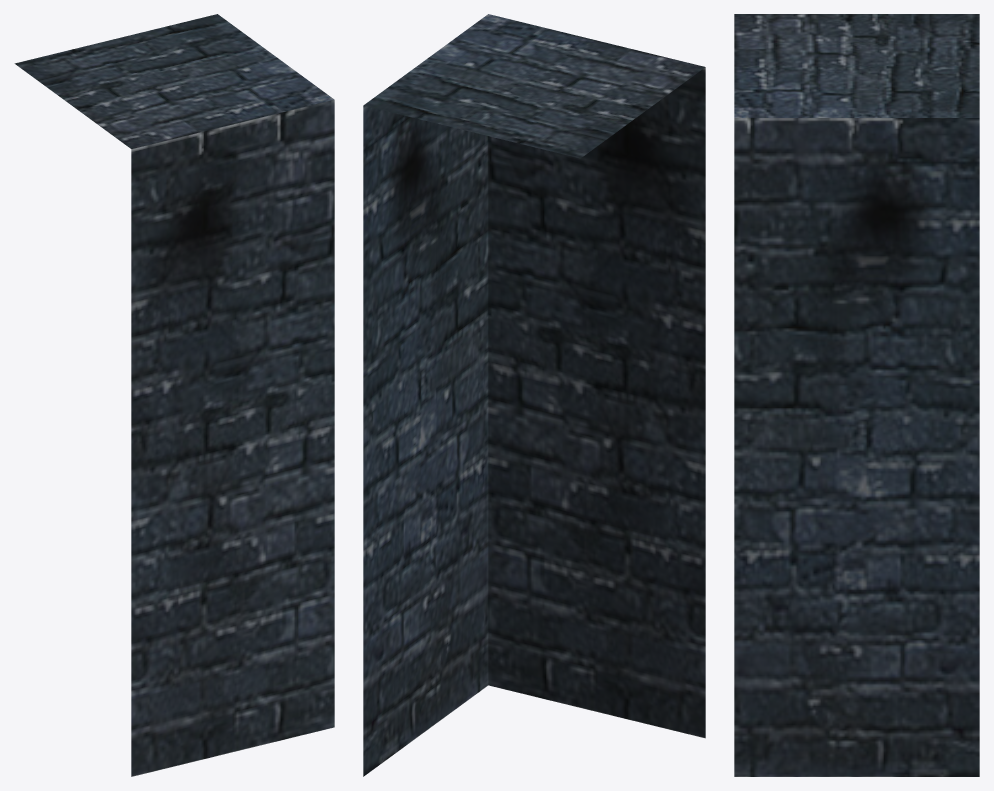
3 renders of one model, left to right at view 1: azimuth 30°, elevation 25°; view 2: azimuth 150°, elevation 25°; view 3: azimuth 270°, elevation 25°, orthographic. The views are drawn at different scales.
Visible parts, largest first — view 1: xs_wj30; view 2: xs_wj30; view 3: xs_wj30.
Part boxes in pixels (<box>): xs_wj30: <box>14,14,334,776</box>; xs_wj30: <box>363,14,705,776</box>; xs_wj30: <box>734,14,979,776</box>.
Size of the model in its own units: 381 by 1125 by 380.
Materials: 1 (1 with a texture image).
